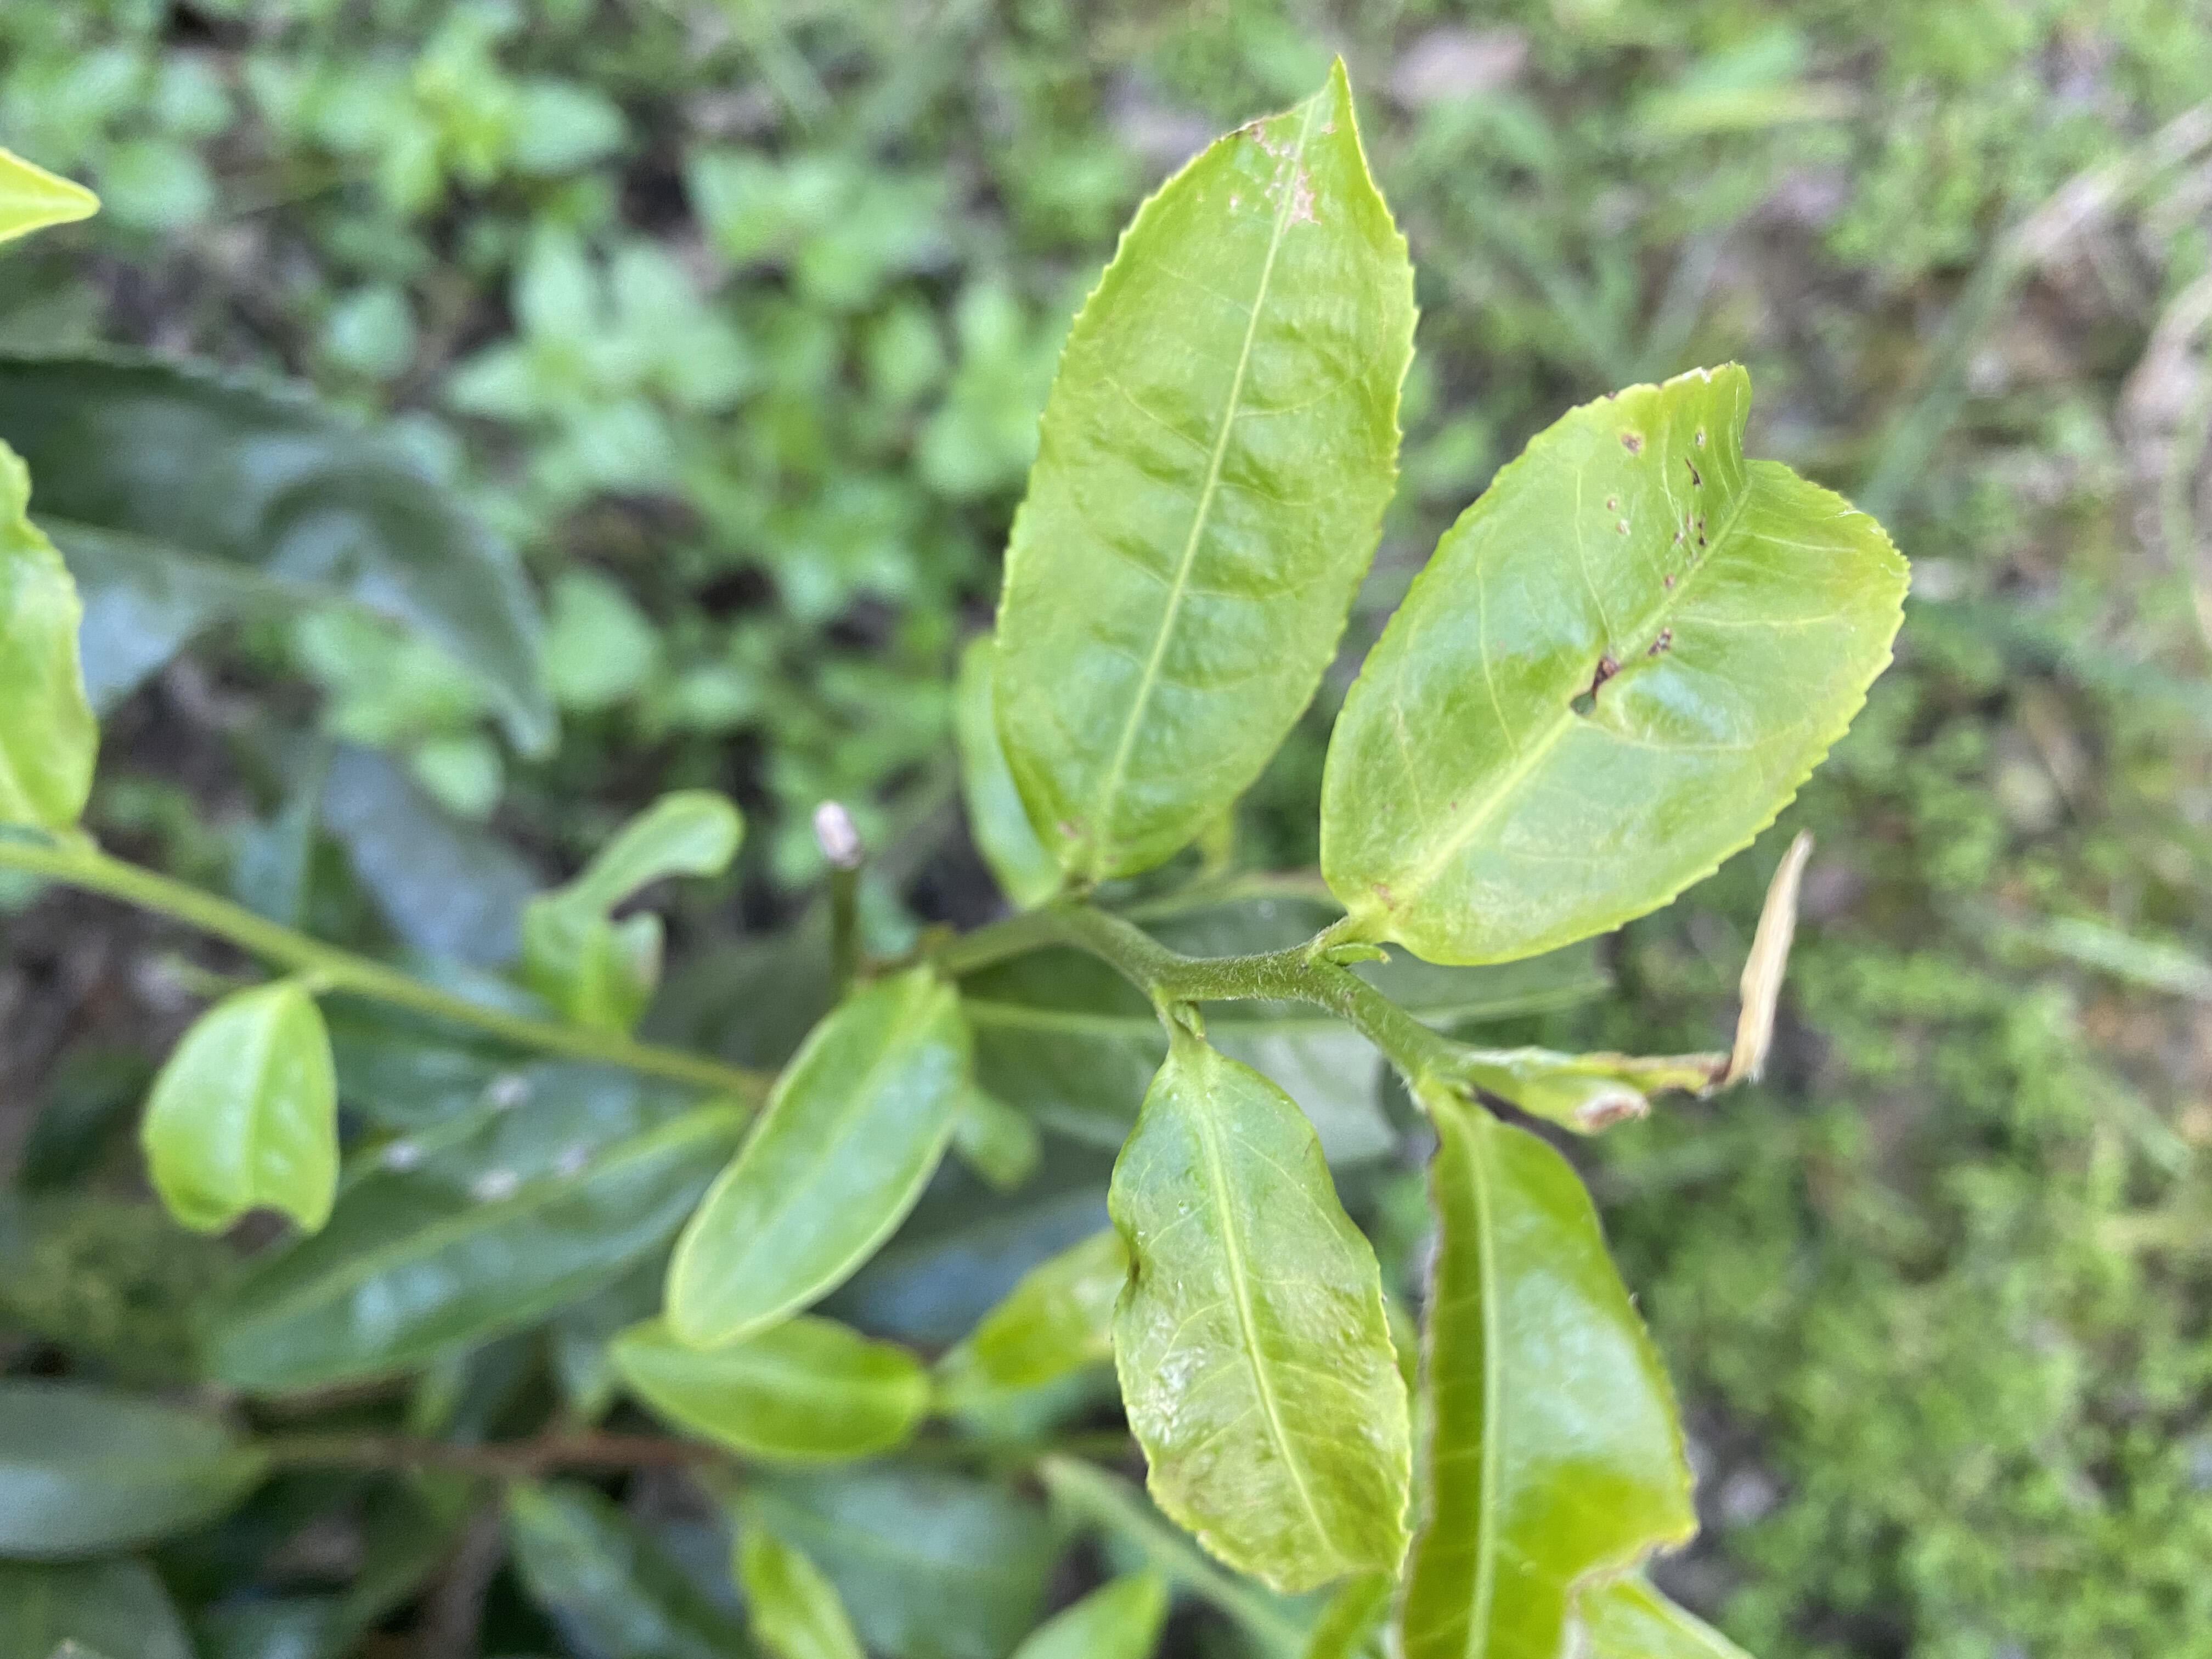chihuo_high: (1400, 1117, 1702, 1656)
healthy: (1096, 1033, 1420, 1595)
tanju_low: (986, 49, 1420, 890), (1317, 361, 1916, 969)
